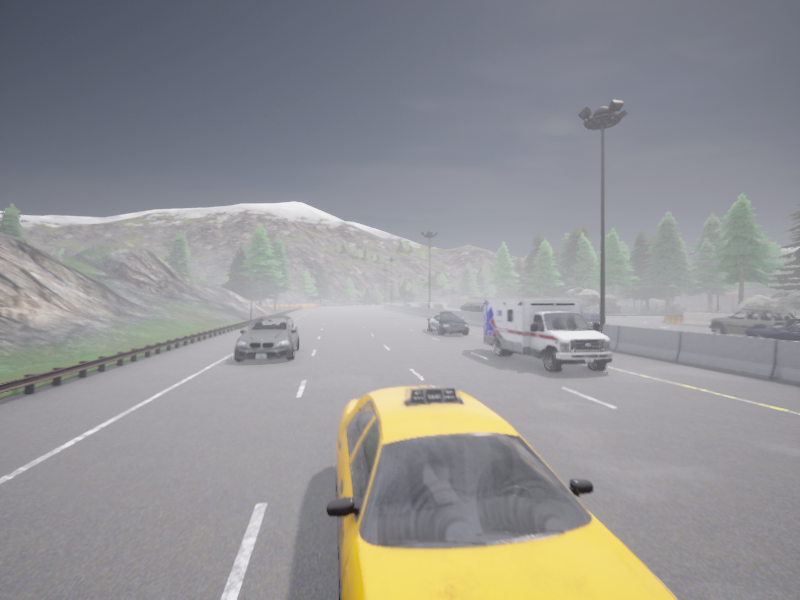vehicle: (326, 385, 677, 599), (482, 299, 611, 372), (234, 316, 299, 361), (708, 308, 799, 335), (426, 312, 468, 335), (744, 323, 799, 340), (580, 309, 599, 322), (460, 302, 482, 312), (432, 303, 442, 308), (417, 303, 426, 307), (401, 303, 409, 305), (424, 303, 428, 307)
